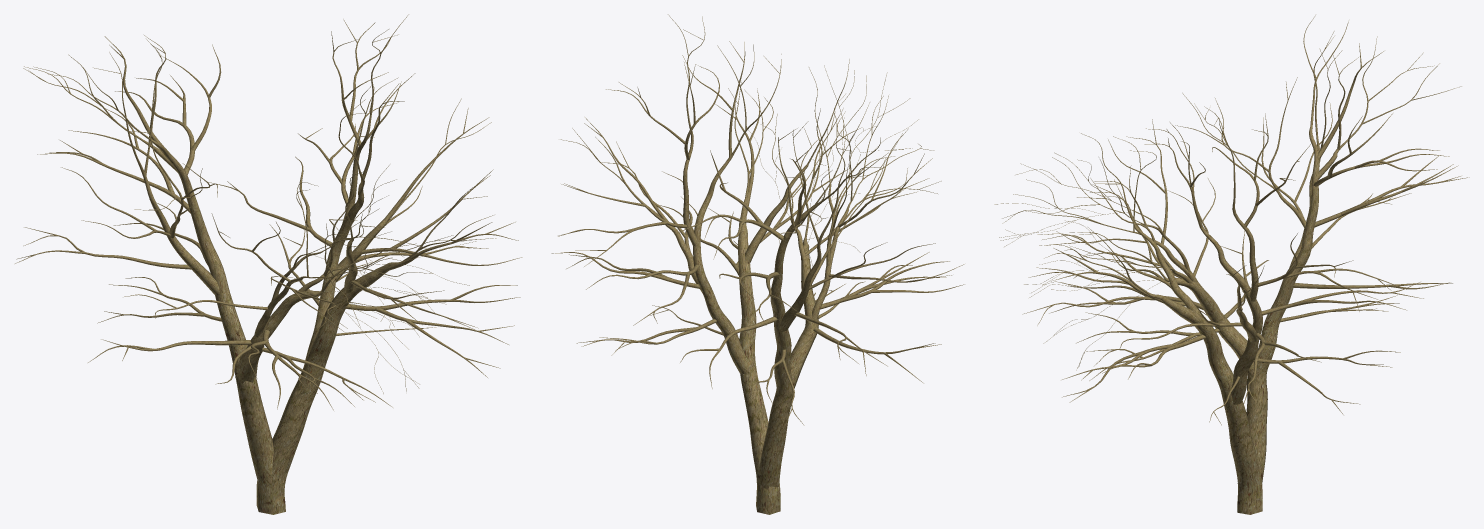
File: easy_world_tree002.dae
3 renders of one model, left to right at view 1: azimuth 30°, elevation 25°; view 2: azimuth 150°, elevation 25°; view 3: azimuth 270°, elevation 25°, orthographic. The views are drawn at different scales.
Parts seen in each view (by area): view 1: tree002; view 2: tree002; view 3: tree002.
Boxes of the visible parts, x1,y1,x2,y2 form: tree002: [15, 14, 522, 514]; tree002: [551, 14, 964, 514]; tree002: [994, 15, 1469, 514].
Bounding box in the file's own units: 5 × 5.33 × 5.54.
Materials: 1 (1 with a texture image).
